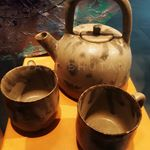cups: (73, 83, 145, 150), (1, 65, 61, 138)
